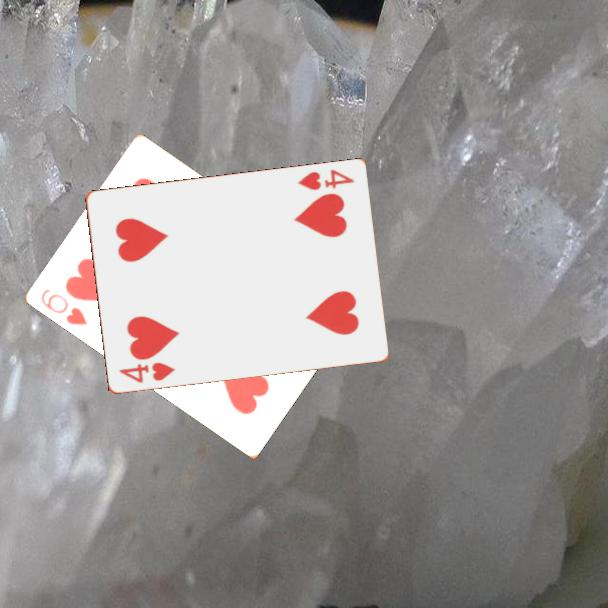h04: (293, 166, 357, 193), (115, 359, 178, 386)
h06: (38, 285, 91, 328)
